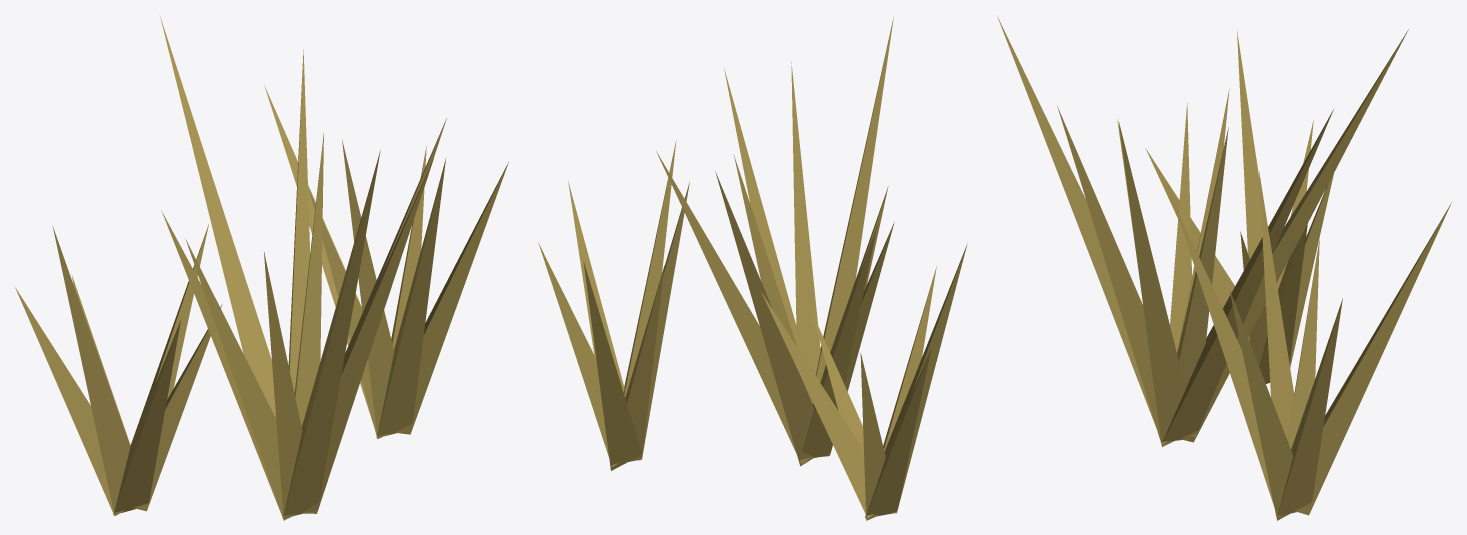
Rendered from SM_Grass_Tuft.obj.
3 views of the same model, side by side, from view 1: azimuth 30°, elevation 25°; view 2: azimuth 150°, elevation 25°; view 3: azimuth 270°, elevation 25° (orthographic). The views are drawn at different scales.
Visible parts, largest first — view 1: SM_Grass_Tuft; view 2: SM_Grass_Tuft; view 3: SM_Grass_Tuft.
Boxes of the visible parts, x1,y1,x2,y2 form: SM_Grass_Tuft: (15, 16, 508, 520); SM_Grass_Tuft: (538, 16, 967, 520); SM_Grass_Tuft: (997, 16, 1451, 520).
Size of the model in its own units: 0.445 by 0.4087 by 0.3964.
